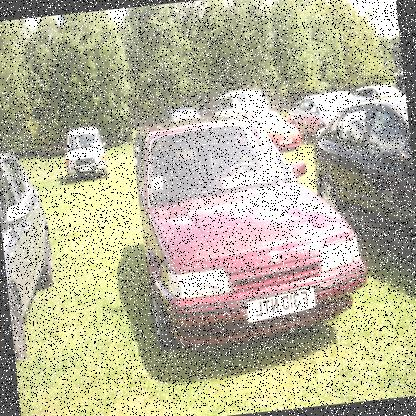Car: (127, 71, 415, 354), (306, 98, 415, 276), (0, 149, 61, 362), (62, 127, 108, 182)
